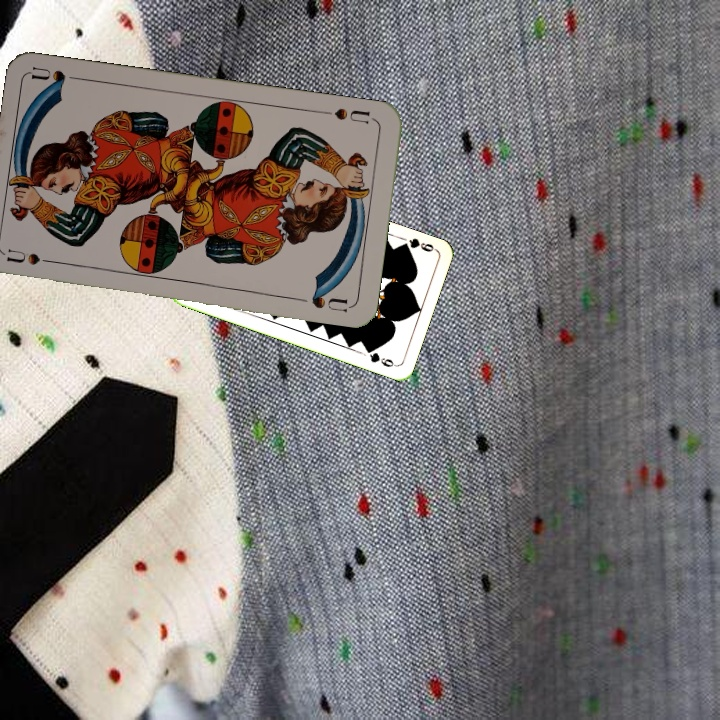G9: (396, 234, 438, 254)
SU: (5, 245, 64, 268), (318, 104, 377, 126)
